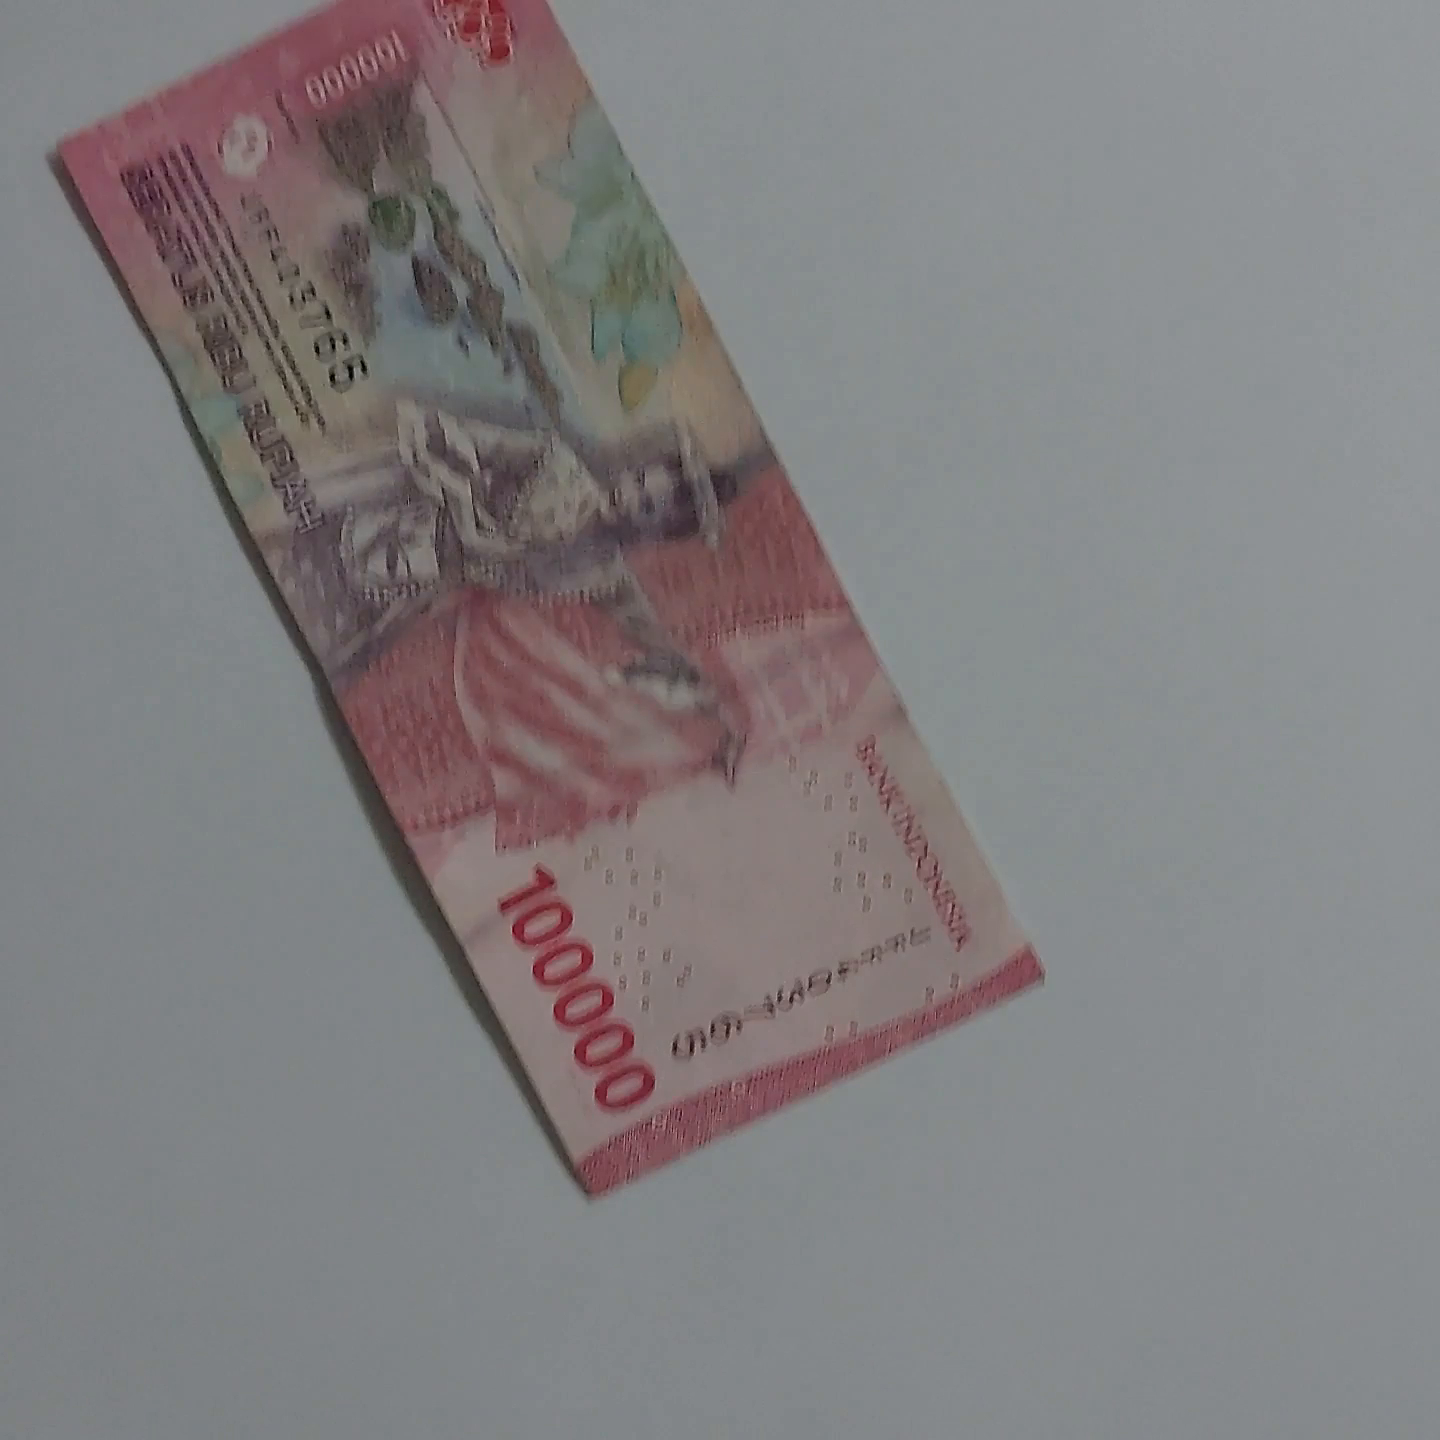100k: (0, 0, 1065, 1183)
